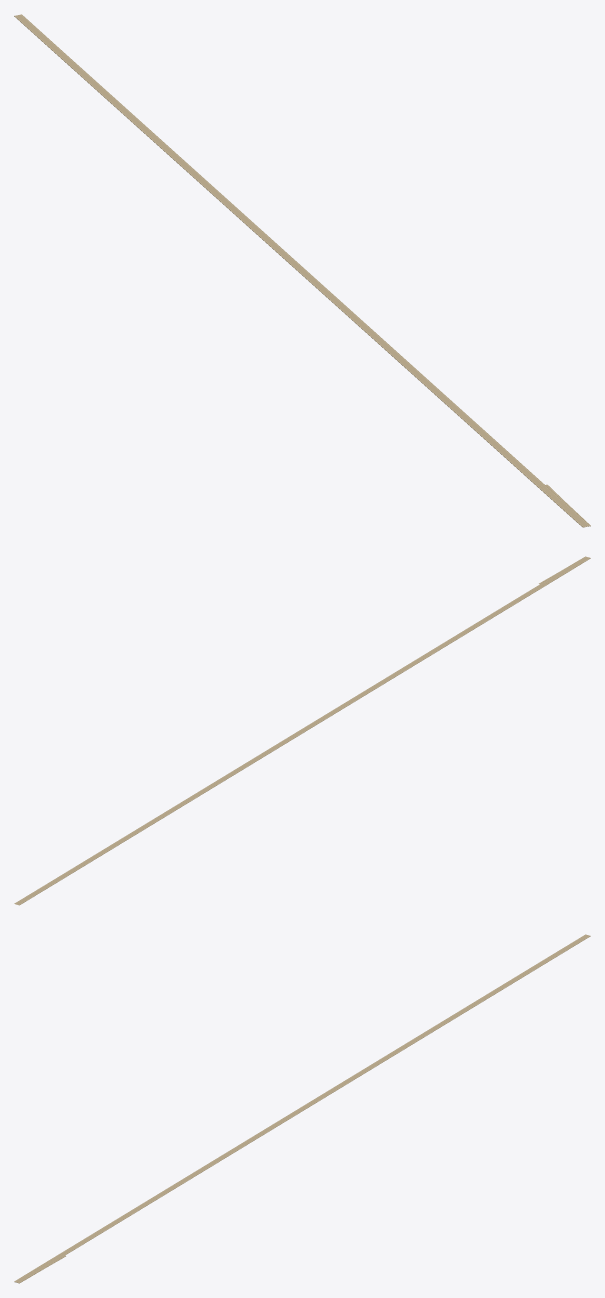
File: road_roam_from_stage_canyon.glb
The picture shows the model from 3 angles, top to bottom: view 1: azimuth 30°, elevation 25°; view 2: azimuth 150°, elevation 25°; view 3: azimuth 330°, elevation 25°; orthographic projection. The views are drawn at different scales.
Visible parts, largest first — view 1: road; view 2: road; view 3: road.
Boxes of the visible parts, left/top/right/bottom form: road: left=14, top=14, right=590, bottom=527; road: left=14, top=556, right=590, bottom=905; road: left=14, top=934, right=590, bottom=1283.
Size of the model in its own units: 168 by 0.32 by 1851.
